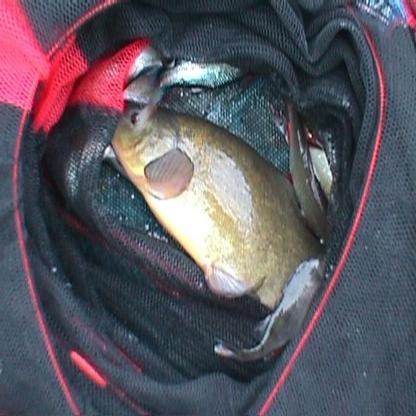fish: (105, 83, 321, 308)
